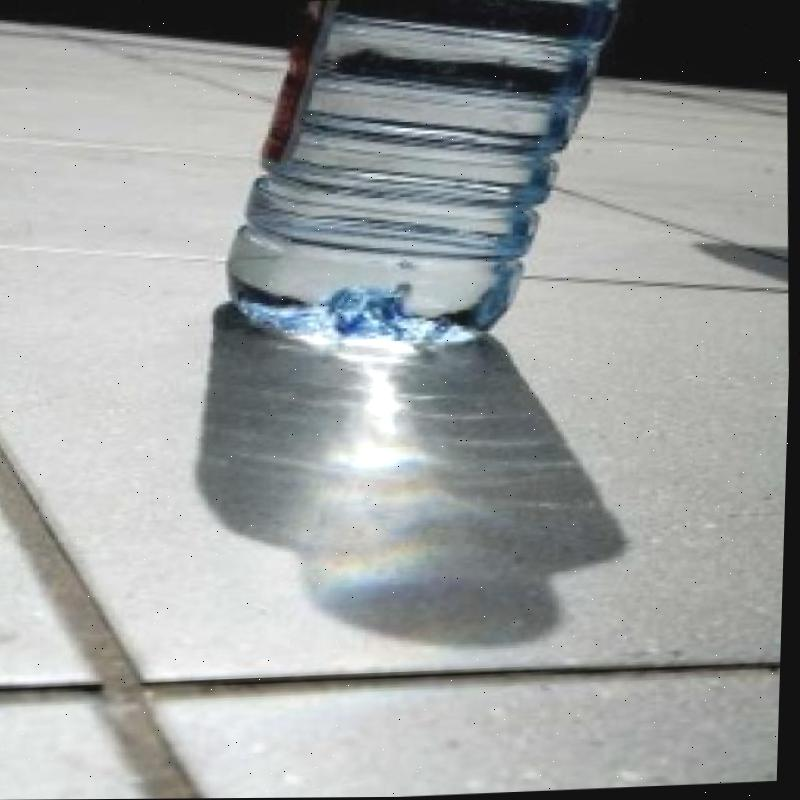botella: (218, 0, 630, 366)
